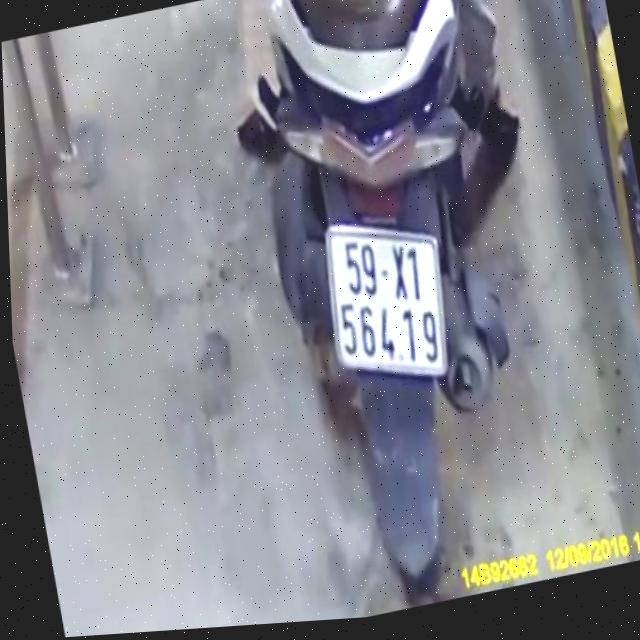motorcycle: (220, 0, 557, 625)
plate: (312, 201, 466, 402)
